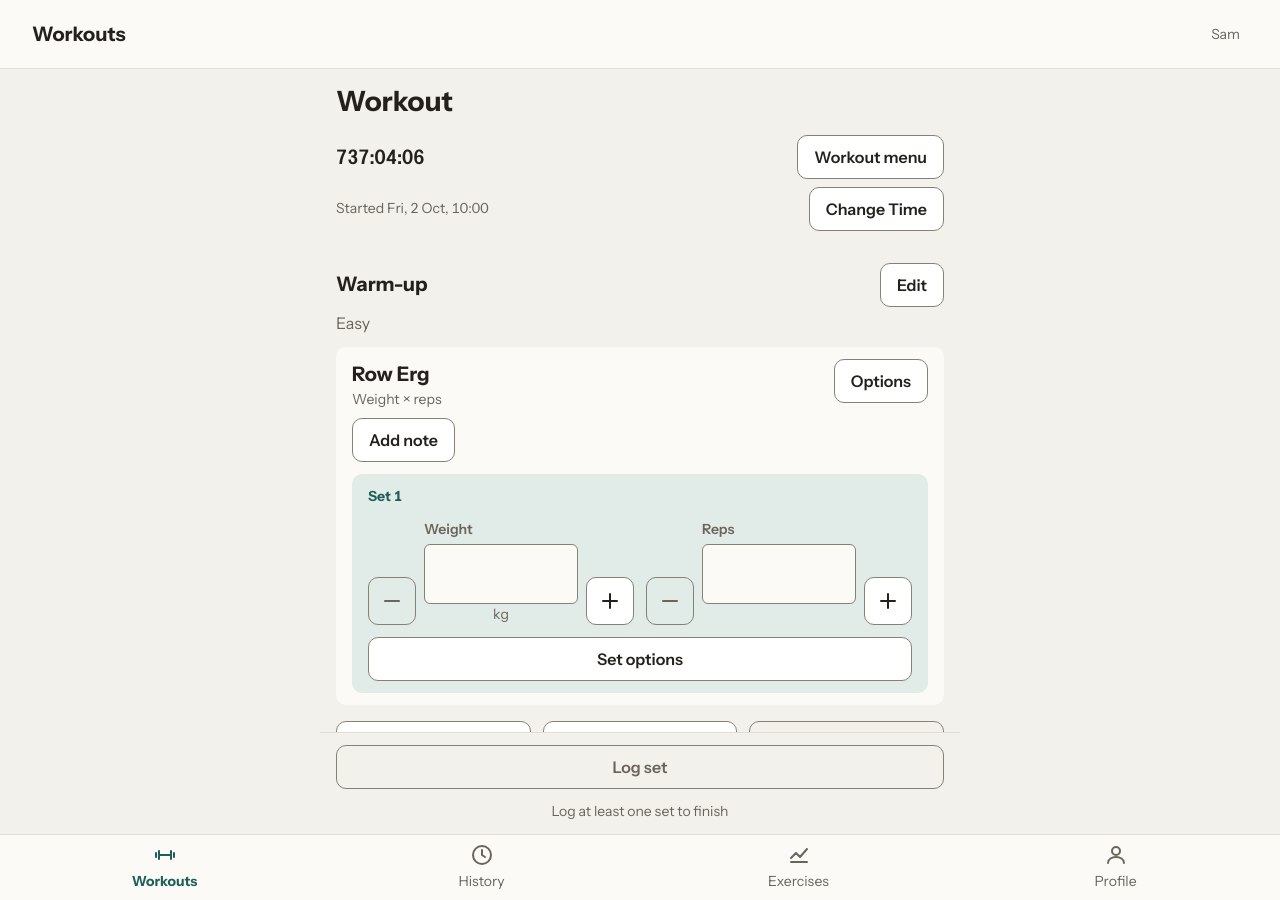
Test case: 10.6 AC7 / AC8 — edit and remove end to end › Save renames from the refetch and says Section saved
Expected: the heading "Workout" is shown, [336,84,453,118]
Click the button with aria-label "Edit section Warm-up" at coordinates (912, 285), box [880,263,944,307]
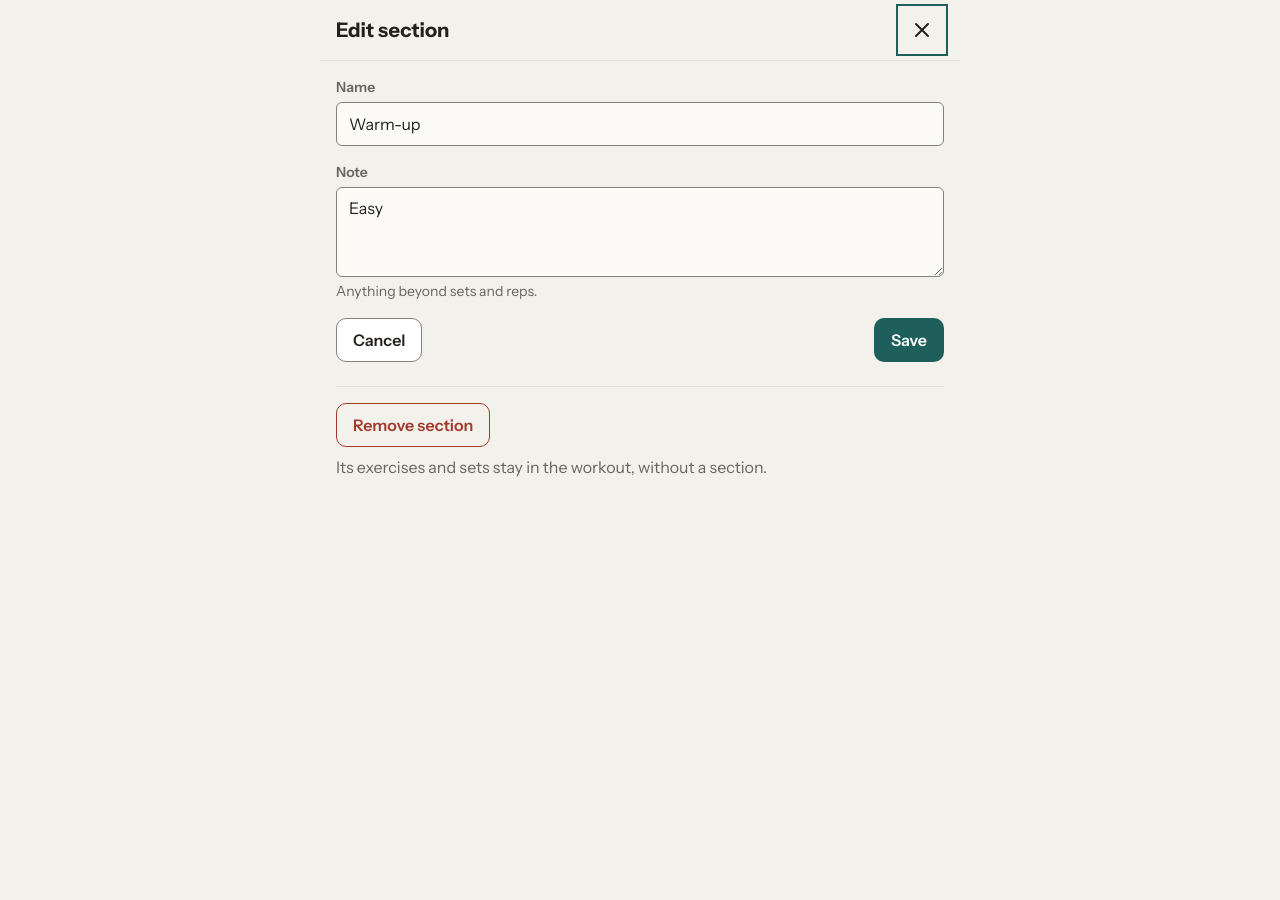
Replace the text in the field labelled "Name" with "Prep" at coordinates (640, 124), box [336,102,944,146]
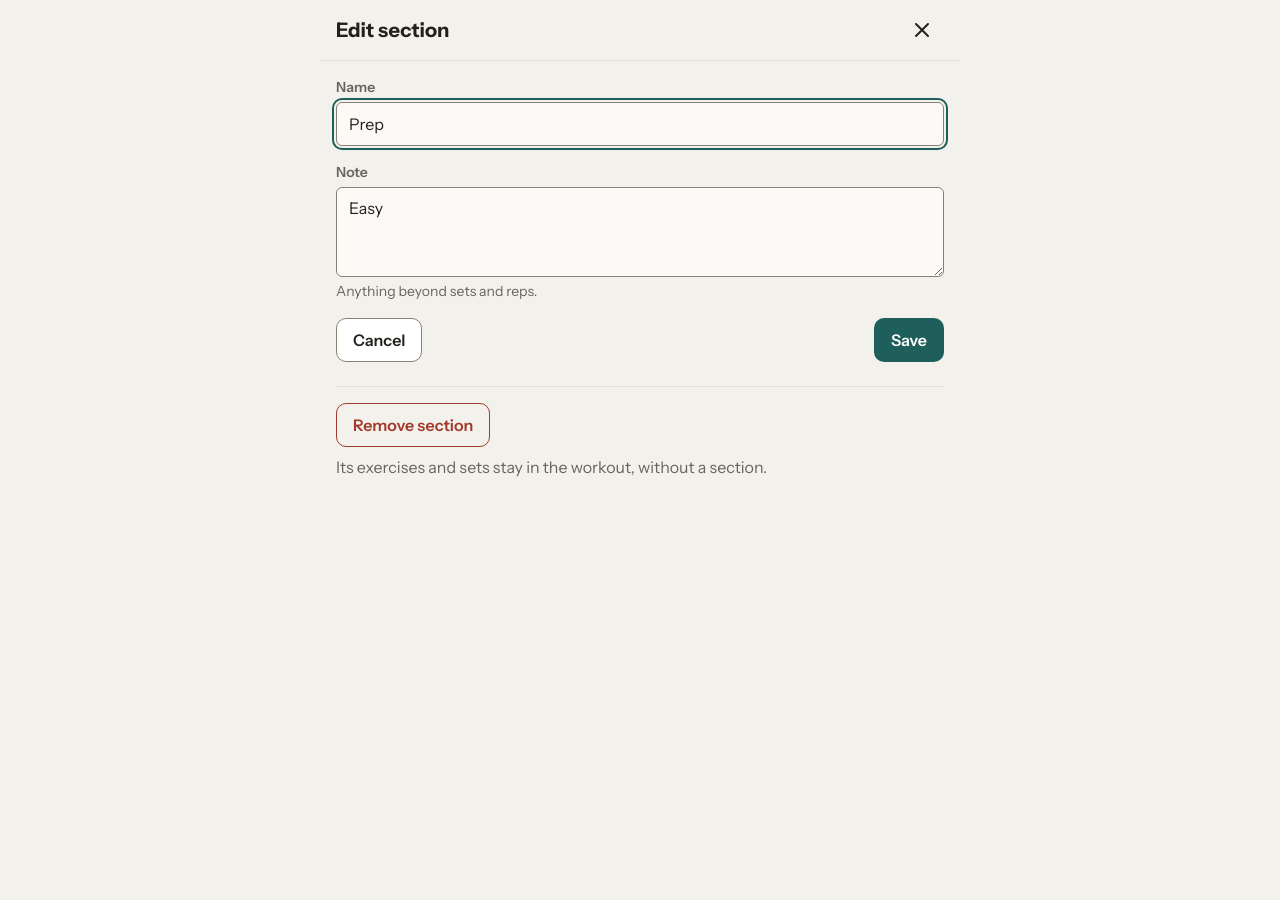
Click the button "Save" at coordinates (909, 340), box [874,318,944,362]
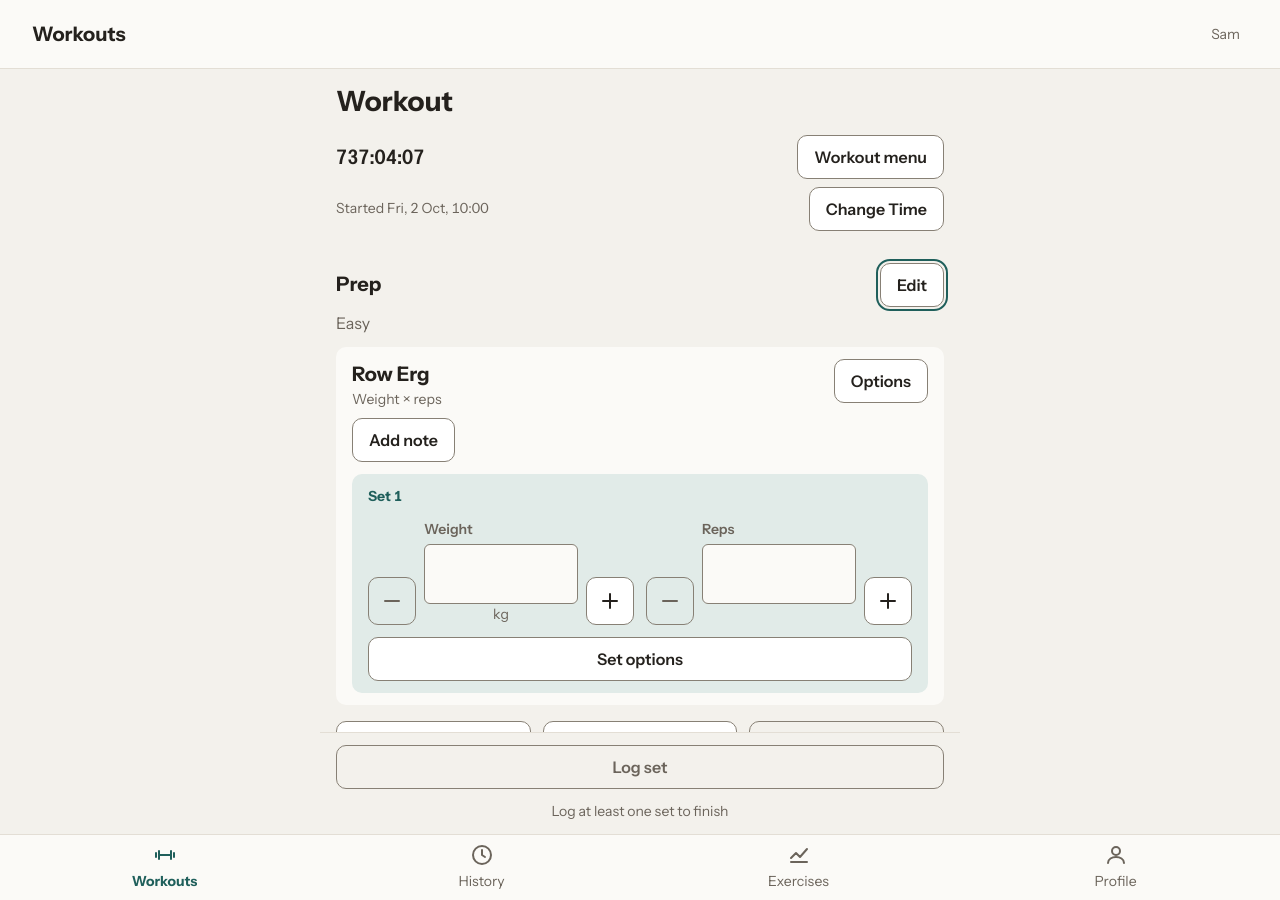
Result: the element "Prep" is shown at [336,263,944,705]
